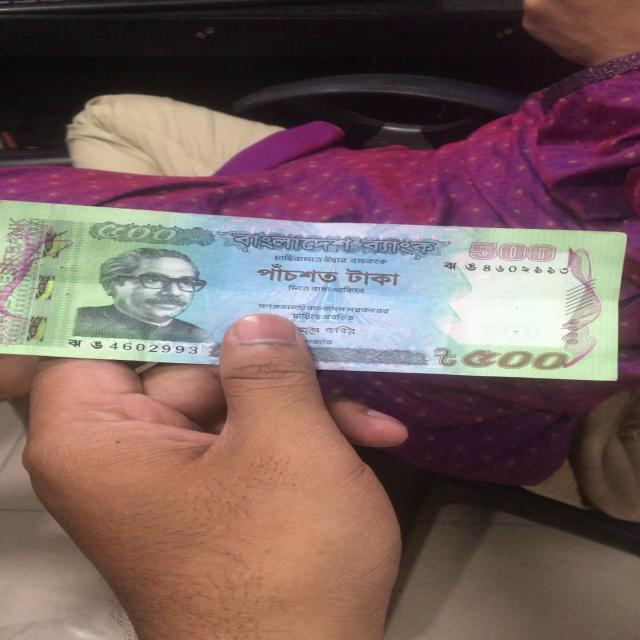Taka: (0, 205, 621, 378)
